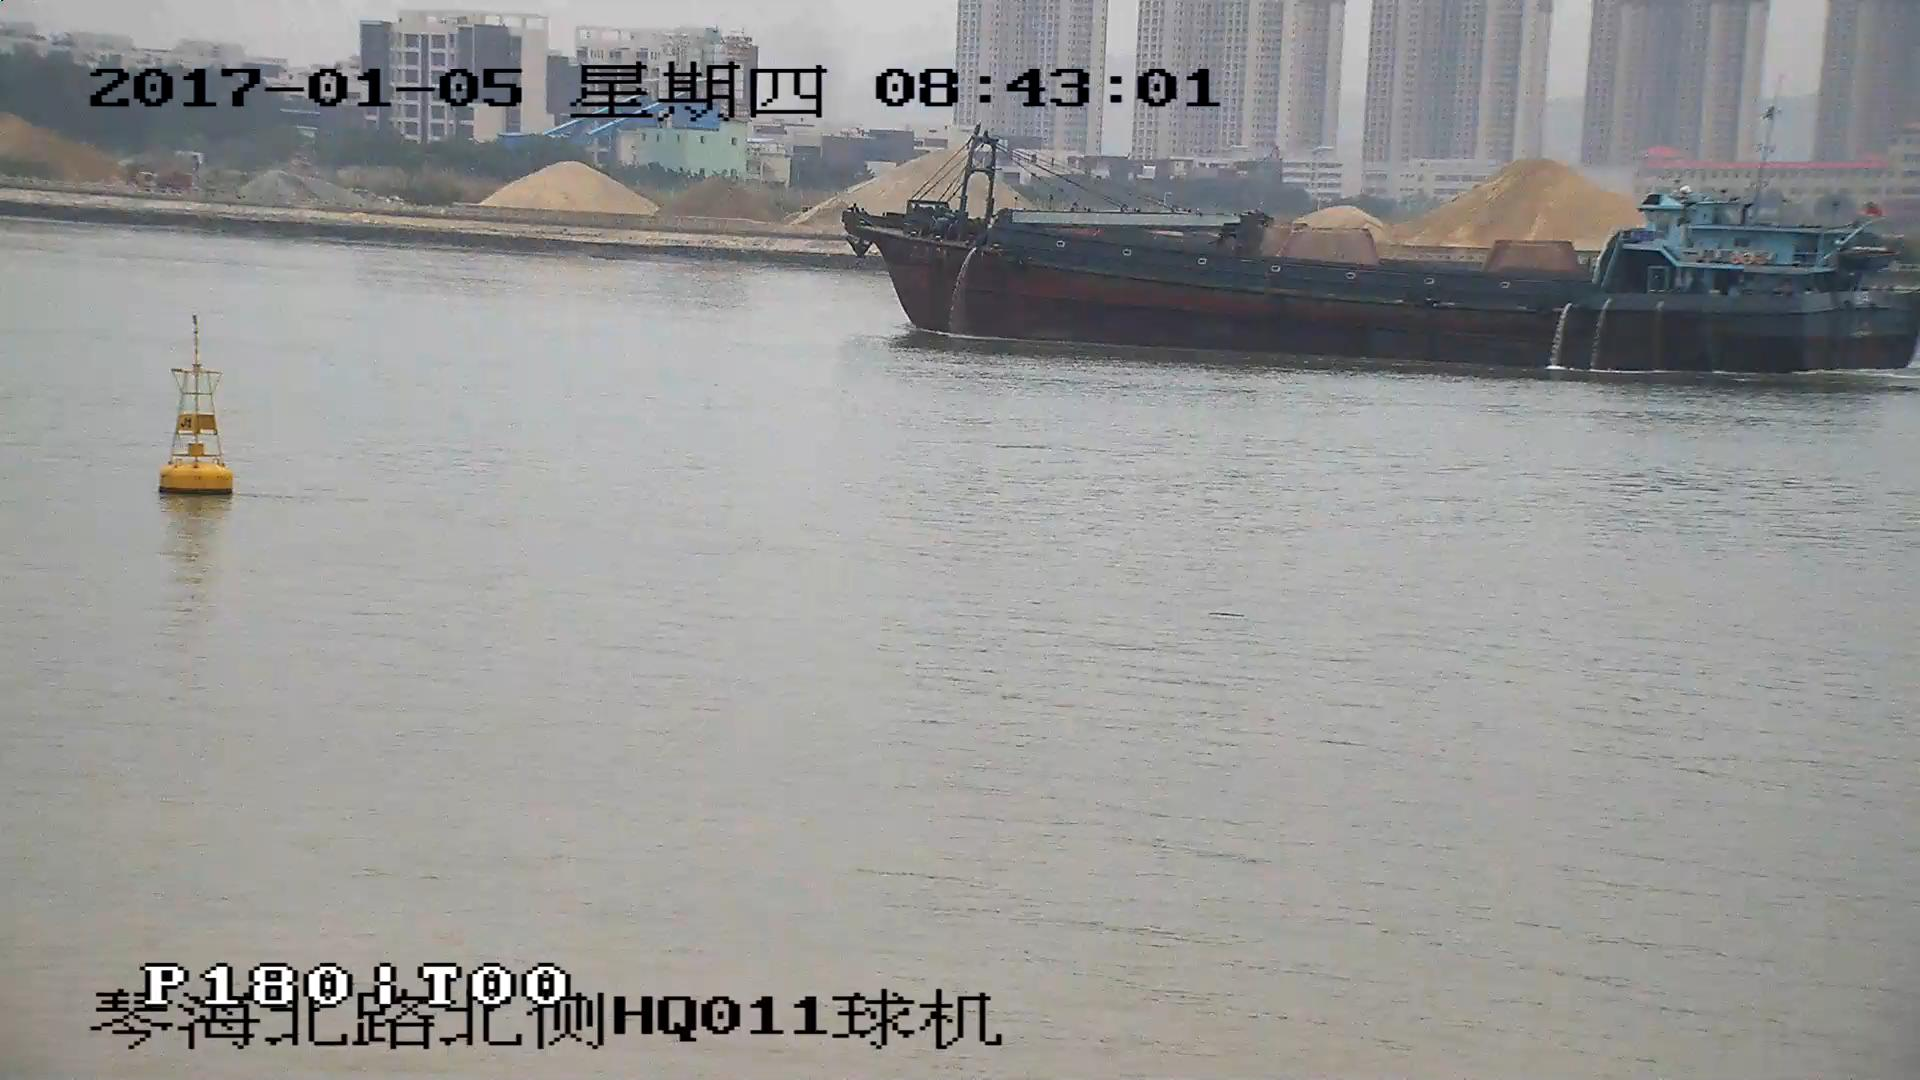bulk cargo carrier: (840, 132, 1920, 373)
